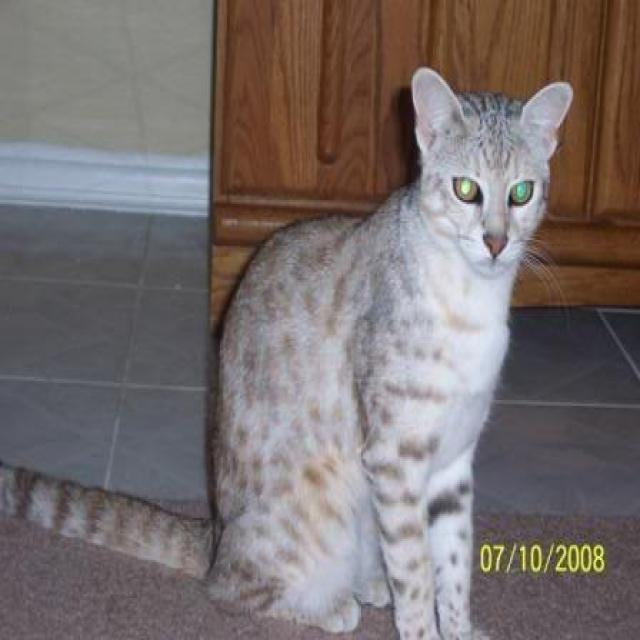Egyptian_Mau: (410, 65, 570, 276)
